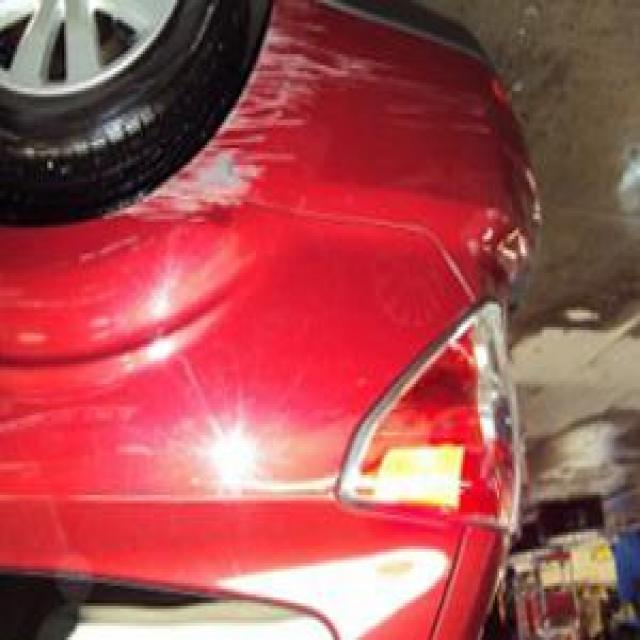scratch: (120, 9, 383, 260)
